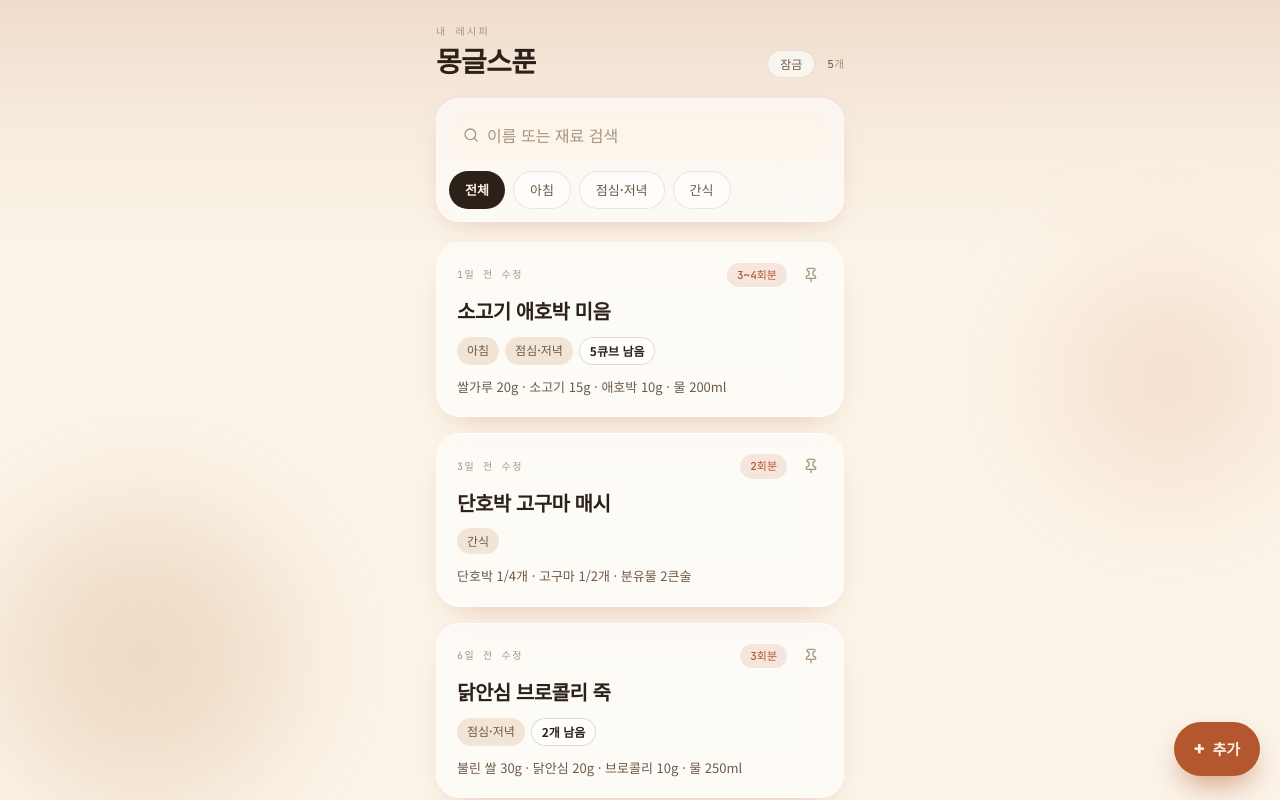
Test: RecipeListScreen › clears the meal-time filter when the active chip is tapped again
Expected: the heading "소고기 애호박 미음" is shown, [457, 296, 610, 325]
What coordinates should you click on to do the following:
click the button "간식"
I would click on:
 (702, 190)
Its box is [673, 171, 730, 208].
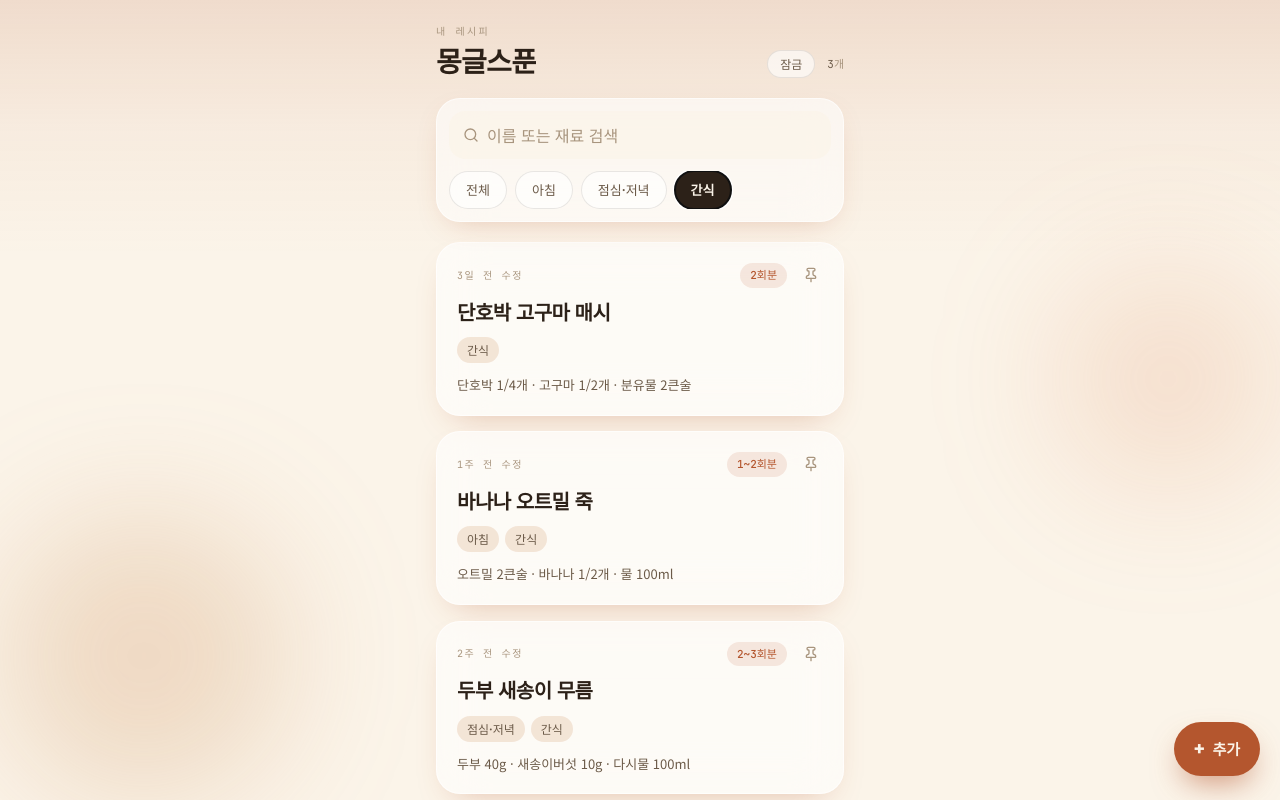
Expected: the button "닭안심 브로콜리 죽" is gone
What coordinates should you click on to do the following:
click the button "간식"
I would click on:
 (703, 190)
Its box is [675, 171, 730, 208].
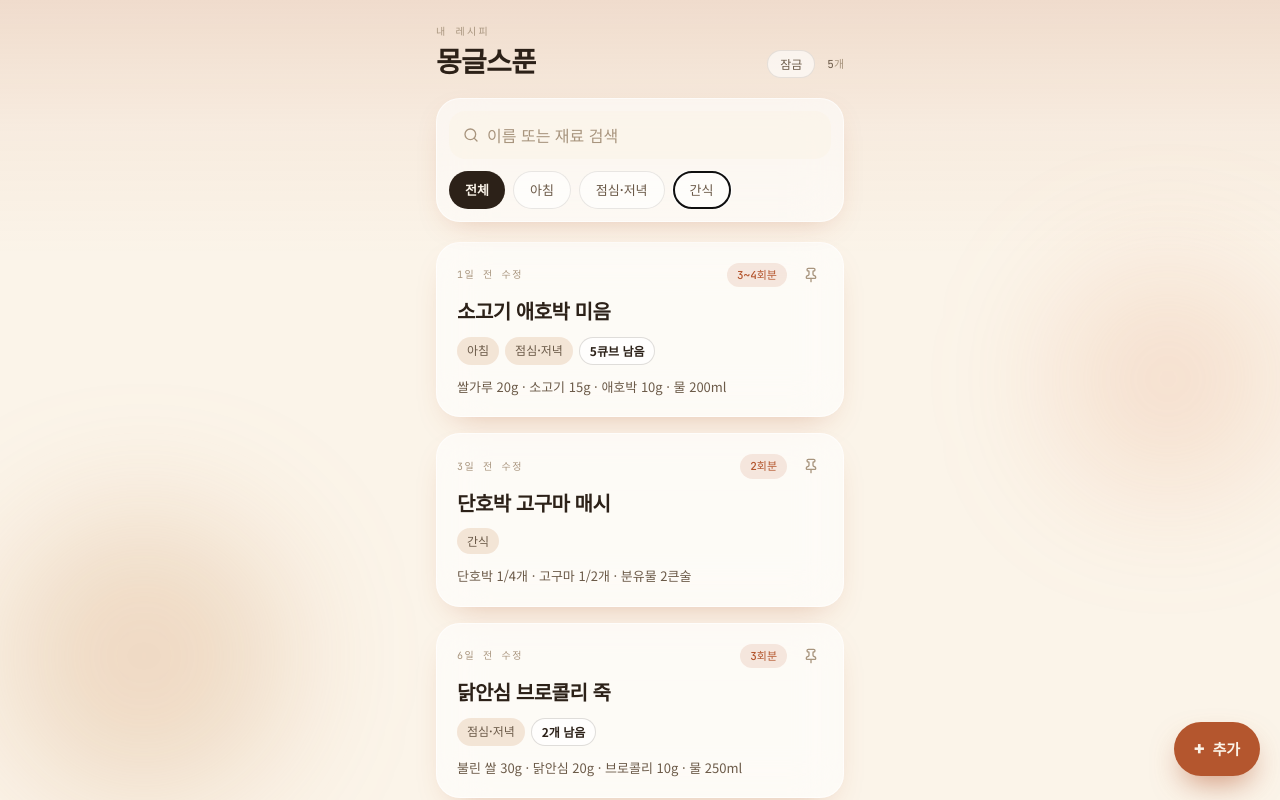
Expected: the heading "닭안심 브로콜리 죽" is shown, [457, 677, 610, 706]
Expected: the element with test id "recipe-count" reads "5개", [827, 56, 844, 72]
